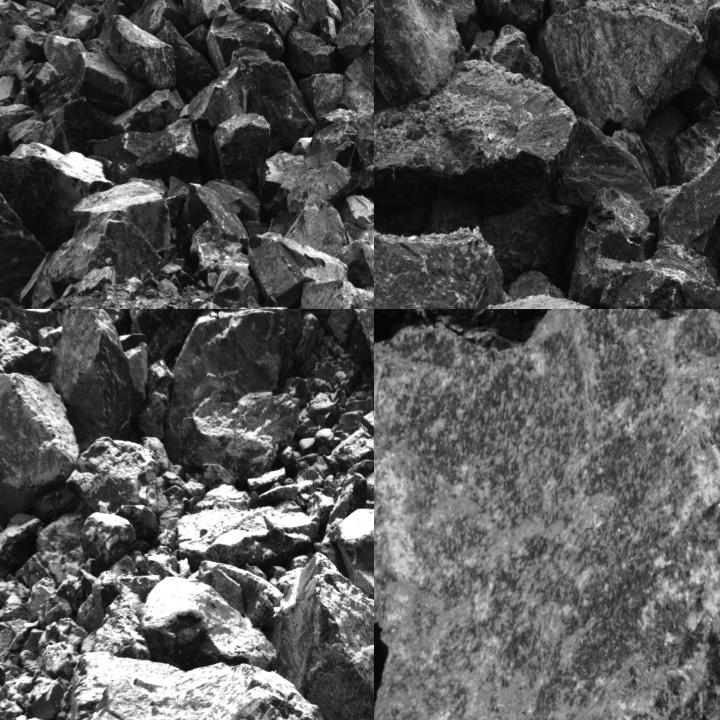stone: (374, 309, 719, 719), (374, 65, 567, 219), (533, 0, 705, 132), (169, 312, 290, 444), (281, 549, 373, 719), (73, 661, 325, 719), (30, 212, 166, 308), (51, 309, 146, 442), (142, 575, 279, 662), (374, 217, 502, 308), (0, 372, 83, 511), (177, 391, 300, 479), (560, 119, 668, 213), (568, 187, 652, 304), (374, 0, 462, 104), (177, 504, 320, 564), (247, 233, 350, 306), (485, 201, 575, 284), (92, 118, 201, 185), (38, 50, 148, 116), (69, 436, 160, 512), (656, 153, 719, 256), (598, 257, 719, 308), (129, 309, 246, 360), (0, 191, 46, 308), (206, 3, 284, 72), (109, 16, 176, 88), (212, 114, 272, 190), (38, 98, 115, 154), (286, 162, 360, 216), (285, 191, 345, 255), (188, 184, 250, 243), (334, 508, 373, 599), (668, 118, 719, 187), (110, 88, 184, 134), (36, 513, 84, 582), (492, 25, 542, 85), (81, 513, 132, 566), (305, 122, 359, 171), (233, 0, 300, 39), (204, 179, 262, 223), (286, 25, 337, 75), (481, 0, 548, 36), (297, 277, 373, 308), (0, 512, 40, 566), (300, 74, 342, 125), (333, 8, 373, 60), (340, 48, 373, 111), (44, 33, 89, 74), (334, 240, 373, 287), (182, 0, 234, 28), (61, 4, 98, 40), (302, 0, 341, 34), (200, 463, 239, 486), (340, 0, 373, 26), (547, 0, 593, 16)
